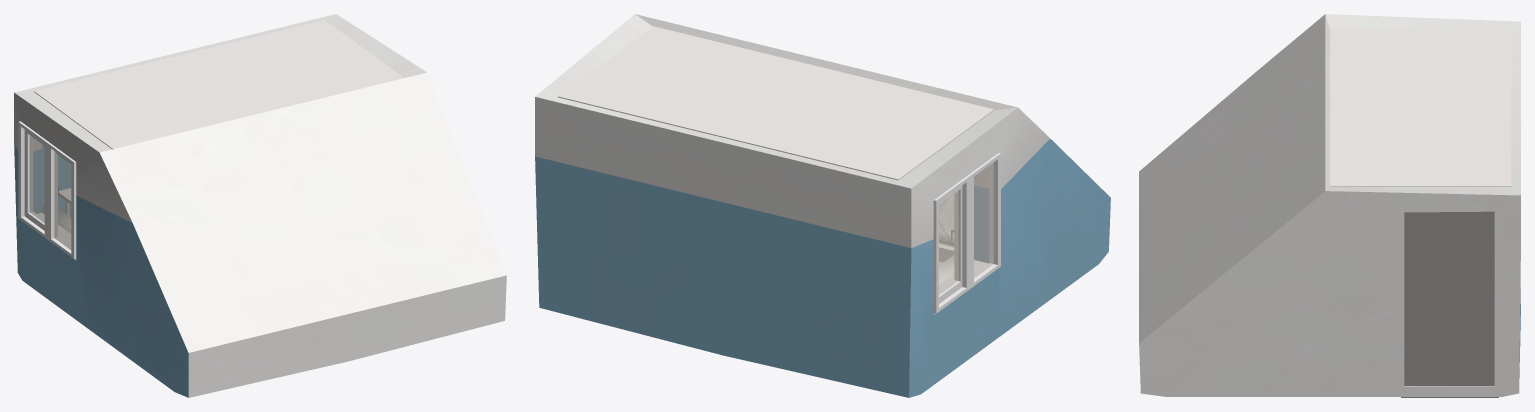
Rendered from kamer_van_den_Heuvel.glb.
3 renders of one model, left to right at view 1: azimuth 30°, elevation 25°; view 2: azimuth 150°, elevation 25°; view 3: azimuth 270°, elevation 25°, orthographic. The views are drawn at different scales.
Parts seen in each view (by area): view 1: Cube, Cube.001, Cube.038, Cube.033, Cube.044, Cube.042, Cube.036, Cube.039; view 2: Cube, Cube.001, Cube.038, Cube.044, Cube.033, Cube.039, Cube.040, Cube.036, Plane.004, Cube.035; view 3: Cube, Cube.001, Cube (2).
Part boxes in pixels (x1,y1,x2,y2): Cube: [14, 14, 506, 397]; Cube.001: [34, 20, 403, 149]; Cube.038: [54, 151, 71, 249]; Cube.033: [44, 144, 57, 238]; Cube.044: [29, 135, 44, 222]; Cube.042: [24, 129, 32, 218]; Cube.036: [18, 121, 24, 219]; Cube.039: [71, 160, 76, 258]; Cube: [535, 14, 1110, 397]; Cube.001: [558, 26, 994, 180]; Cube.038: [974, 162, 993, 277]; Cube.044: [939, 191, 958, 294]; Cube.033: [962, 177, 973, 287]; Cube.039: [990, 153, 1000, 268]; Cube.040: [954, 185, 962, 287]; Cube.036: [933, 198, 938, 313]; Plane.004: [939, 194, 953, 245]; Cube.035: [939, 263, 997, 311]; Cube: [1139, 14, 1520, 396]; Cube.001: [1330, 29, 1511, 186]; Cube (2): [1401, 211, 1498, 397].
Size of the model in its own units: 4.58 by 2.51 by 4.11.
Materials: 34 (8 with a texture image).
